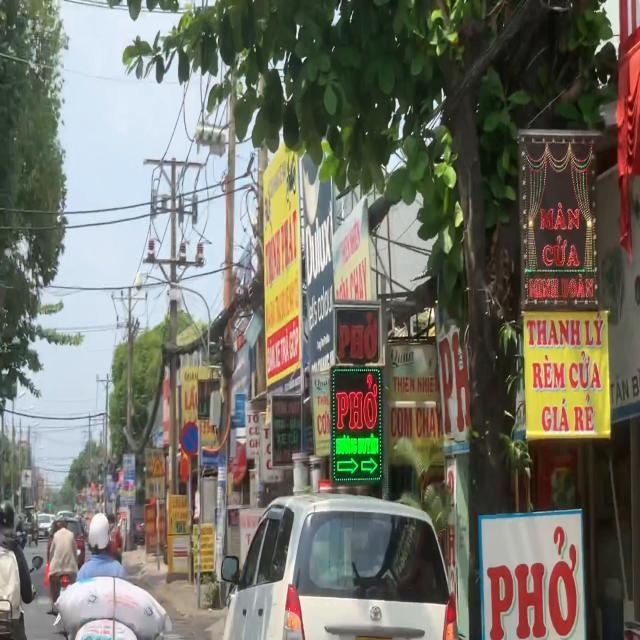bien_cam: (181, 422, 200, 457)
